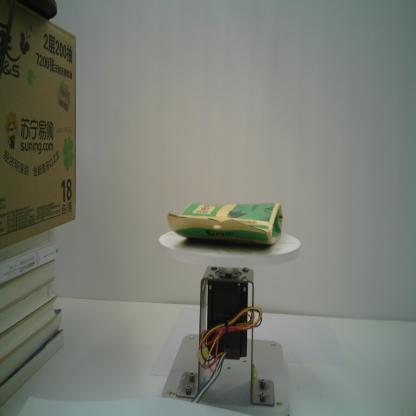Dried Food: (161, 196, 287, 253)
